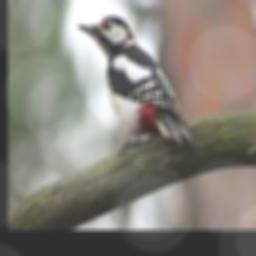Woodpecker: (76, 16, 192, 154)
